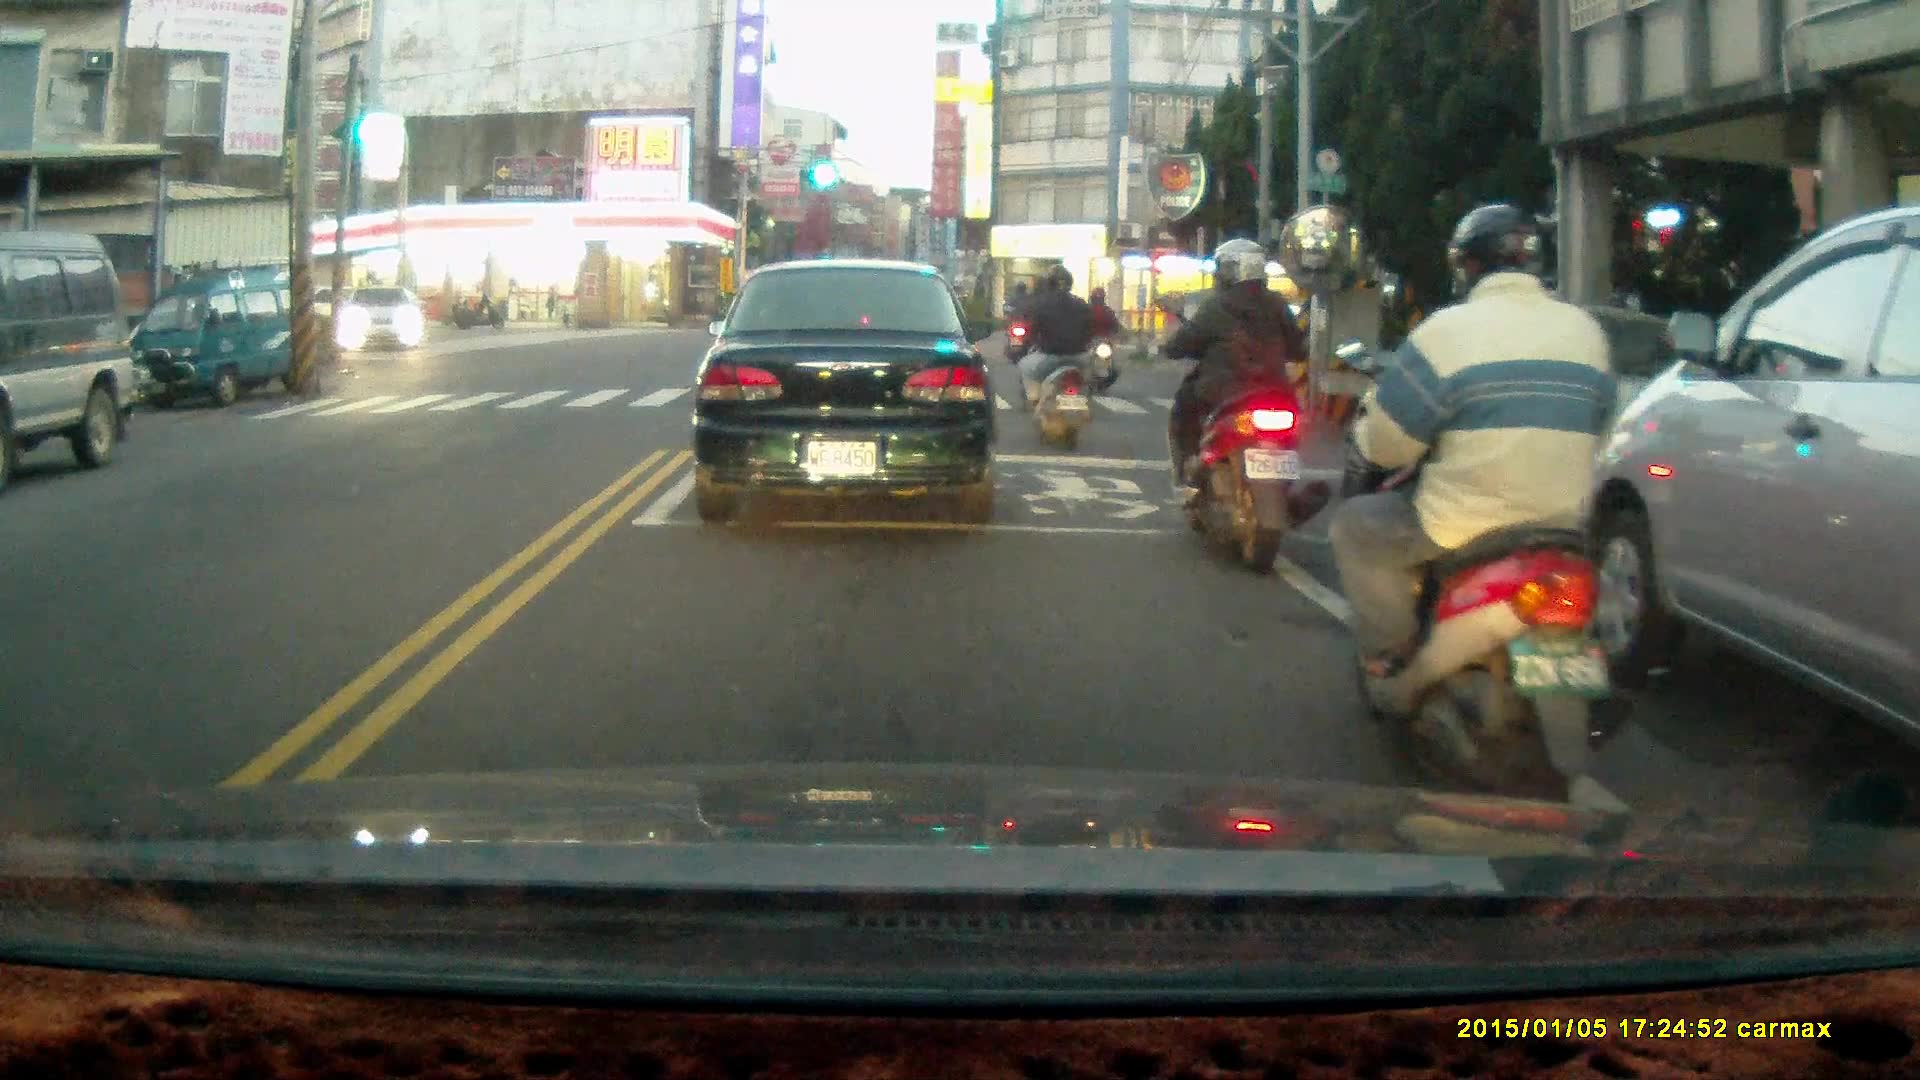rider: (1334, 203, 1644, 841), (1158, 236, 1331, 582), (1015, 260, 1095, 450), (1078, 283, 1118, 400), (999, 279, 1034, 364)
vehicle: (1583, 206, 1920, 823), (690, 255, 1010, 531), (1, 234, 133, 480), (142, 263, 298, 407), (337, 287, 426, 358)
